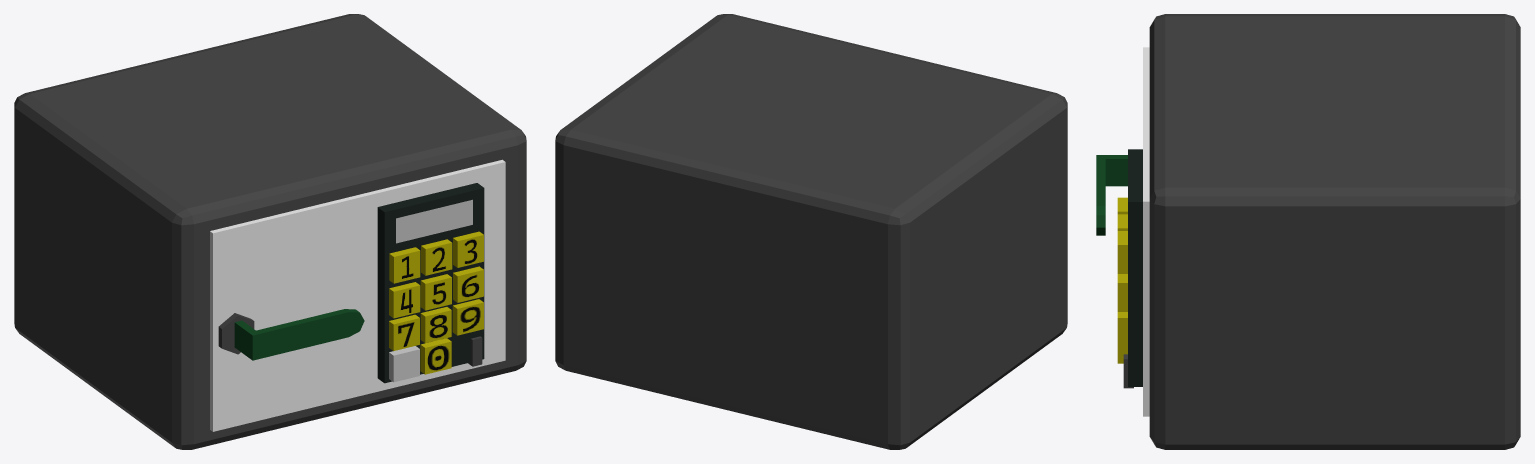
The model's file is F_SAFE_01(3).fbx.
3 renders of one model, left to right at view 1: azimuth 30°, elevation 25°; view 2: azimuth 150°, elevation 25°; view 3: azimuth 270°, elevation 25°, orthographic. The views are drawn at different scales.
Parts seen in each view (by area): view 1: Cube.013, Cube.029, Cube.014, Cube.028, Cube.022, Cube.027, Cube.018, Cube.017, Cube.020, Cube.026, Cube.025, Cube.021 (+3 smaller); view 2: Cube.013; view 3: Cube.013, Cube.014, Cube.029, Cube.028, Cube.021.
Boxes of the visible parts, bbox=[...] form: Cube.013: bbox=[14, 14, 526, 449]; Cube.029: bbox=[210, 159, 505, 431]; Cube.014: bbox=[377, 183, 484, 383]; Cube.028: bbox=[234, 309, 364, 360]; Cube.022: bbox=[389, 282, 420, 318]; Cube.027: bbox=[420, 338, 451, 374]; Cube.018: bbox=[389, 247, 420, 283]; Cube.017: bbox=[420, 274, 451, 310]; Cube.020: bbox=[421, 239, 452, 275]; Cube.026: bbox=[452, 299, 483, 335]; Cube.025: bbox=[420, 307, 451, 343]; Cube.021: bbox=[453, 231, 483, 267]; Cube.013: bbox=[555, 14, 1067, 449]; Cube.013: bbox=[1149, 14, 1520, 449]; Cube.014: bbox=[1128, 149, 1142, 386]; Cube.029: bbox=[1143, 47, 1149, 416]; Cube.028: bbox=[1096, 155, 1127, 235]; Cube.021: bbox=[1117, 231, 1127, 273].
Bounding box in the file's own units: 200 × 130 × 192.
